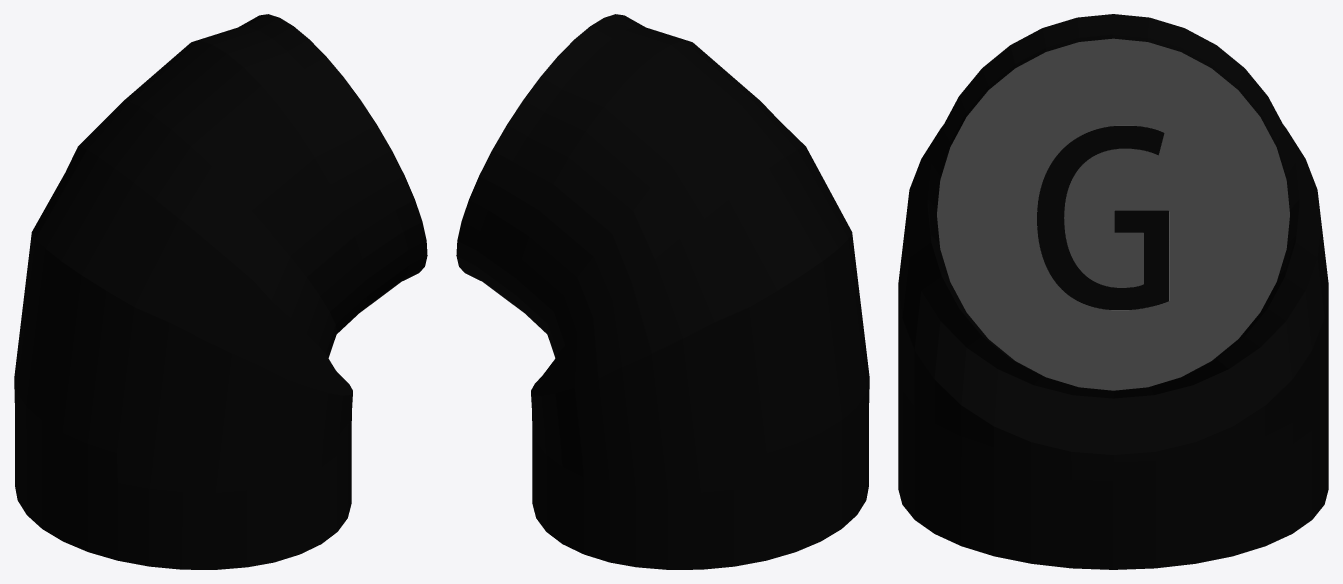
3 renders of one model, left to right at view 1: azimuth 30°, elevation 25°; view 2: azimuth 150°, elevation 25°; view 3: azimuth 270°, elevation 25°, orthographic. The views are drawn at different scales.
Parts seen in each view (by area): view 1: 圆环; view 2: 圆环; view 3: 圆环.
Boxes of the visible parts, x1,y1,x2,y2 form: 圆环: (14, 14, 427, 569); 圆环: (456, 14, 869, 569); 圆环: (898, 14, 1328, 569).
Size of the model in its own units: 261 by 321 by 244.
3 materials, 1 textured.
